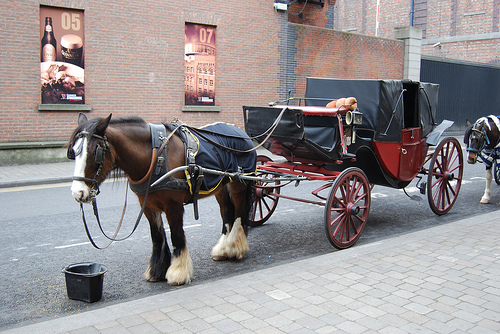horse: (67, 113, 256, 286), (462, 113, 500, 206)
